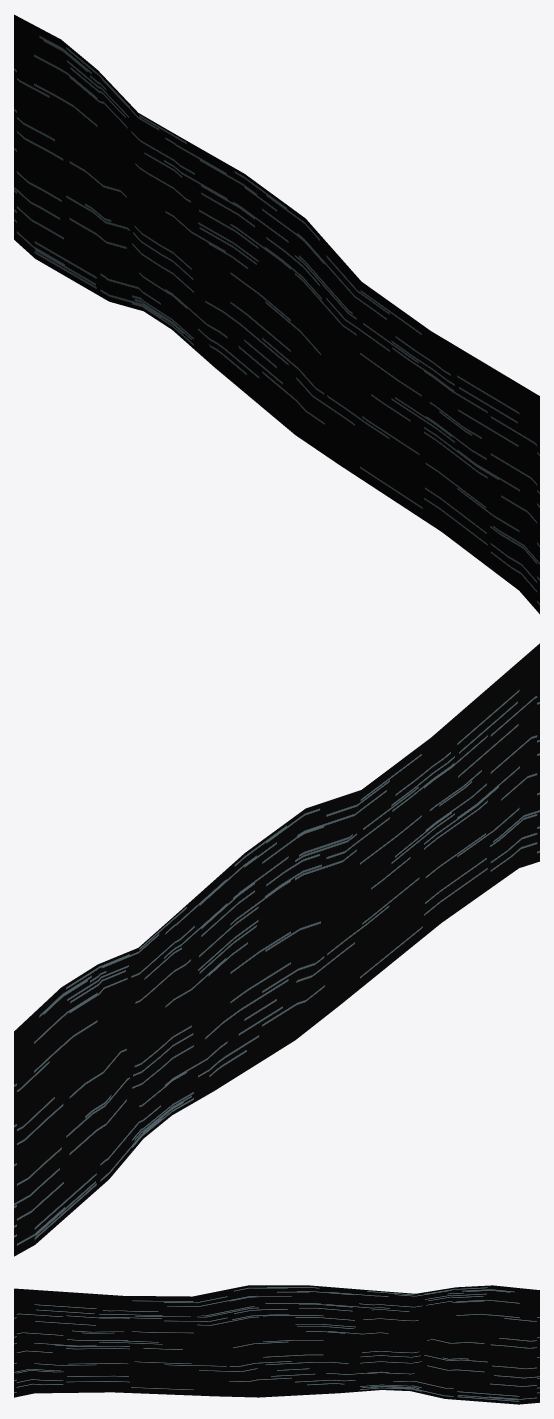
The model's file is rivermesh.obj.
3 renders of one model, top to bottom at view 1: azimuth 30°, elevation 25°; view 2: azimuth 150°, elevation 25°; view 3: azimuth 270°, elevation 25°, orthographic. The views are drawn at different scales.
Visible parts, largest first — view 1: Plane.001; view 2: Plane.001; view 3: Plane.001.
Part boxes in pixels (bbox=[...]): Plane.001: bbox=[14, 14, 539, 613]; Plane.001: bbox=[14, 643, 539, 1256]; Plane.001: bbox=[14, 1285, 539, 1404].
Bounding box in the file's own units: 0 × 3.2 × 12.8.
